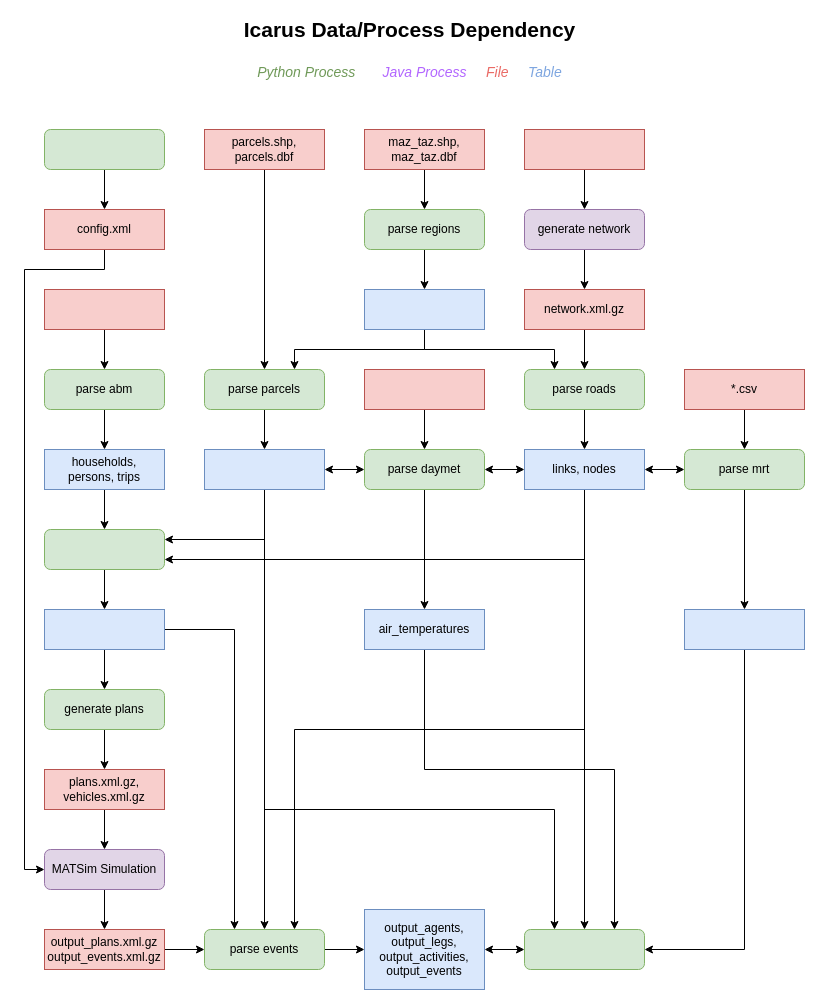
Image size: 822x1007. Some labels were removed from this diagram. Here are the shapes that lost their labels. From the top down, the centre of each, then its label:
At pixel 104 149: "generate config".
At pixel 584 149: "arizona.osm.pbf, valleymetro/*.txt".
At pixel 104 309: "abm/*.csv.gz".
At pixel 424 309: "regions".
At pixel 424 389: "tmax_*.nc, tmin_*.nc".
At pixel 264 469: "parcels".
At pixel 104 549: "generate population".
At pixel 104 629: "agents, legs, activities".
At pixel 744 629: "mrt_temperatures".
At pixel 584 949: "analyze exposure".
